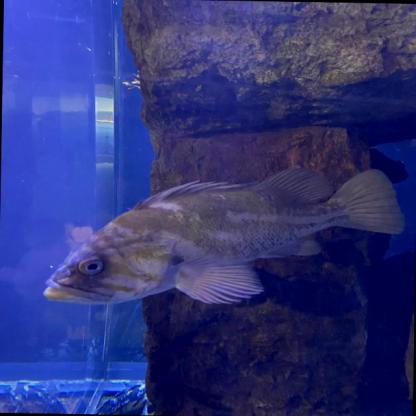fish: (30, 159, 398, 306)
